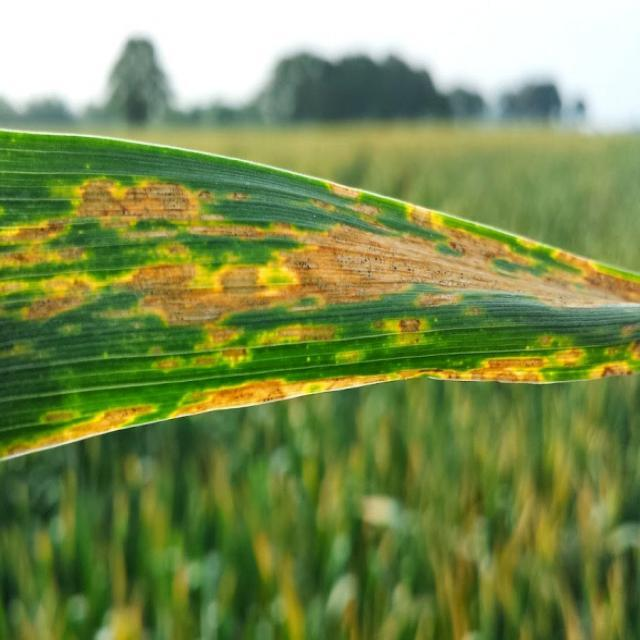wheat-septoria: (0, 129, 640, 463)
